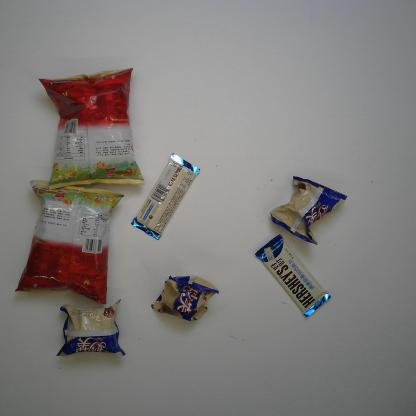Chocolate: (254, 233, 334, 319), (129, 152, 202, 242)
Dessert: (269, 174, 349, 246), (55, 298, 127, 358), (149, 274, 220, 322)
Puffed Food: (13, 179, 126, 305), (37, 66, 146, 191)
